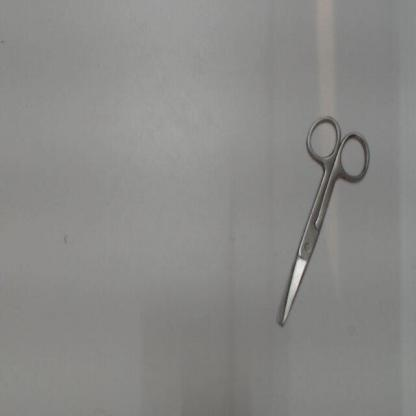Dressing Scissors: (268, 106, 378, 340)
